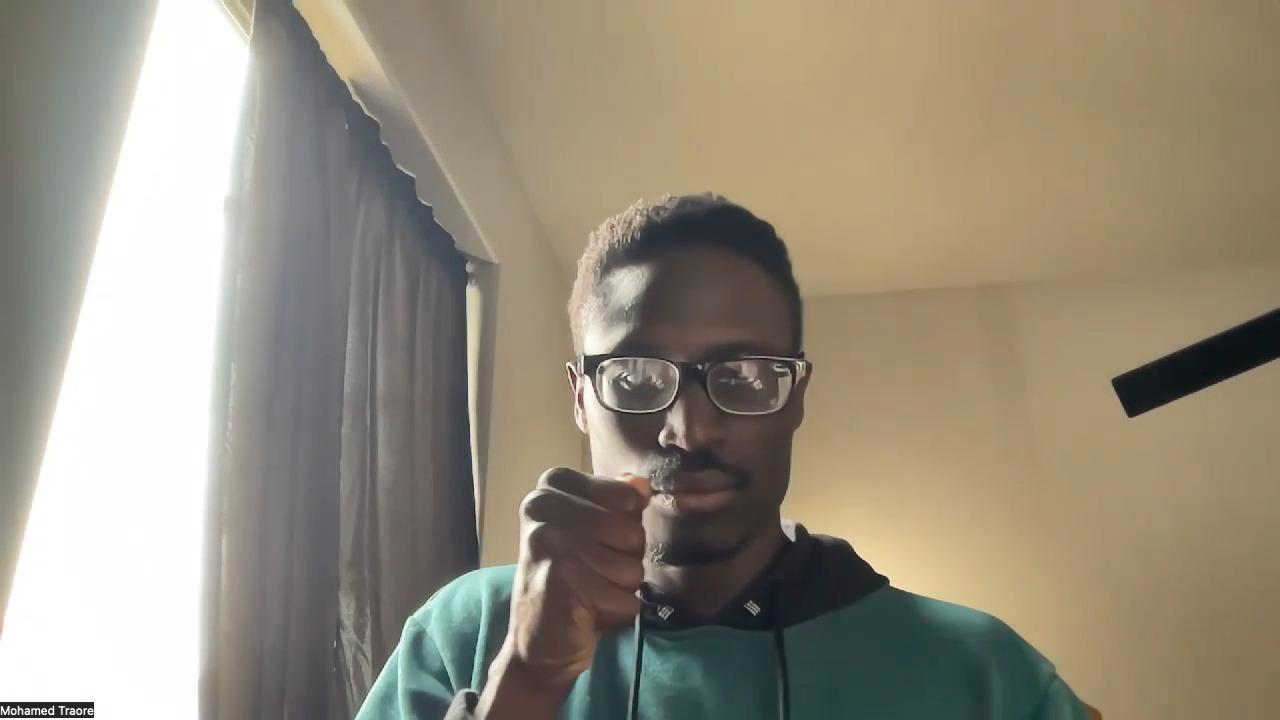Rock: (505, 470, 656, 693)
